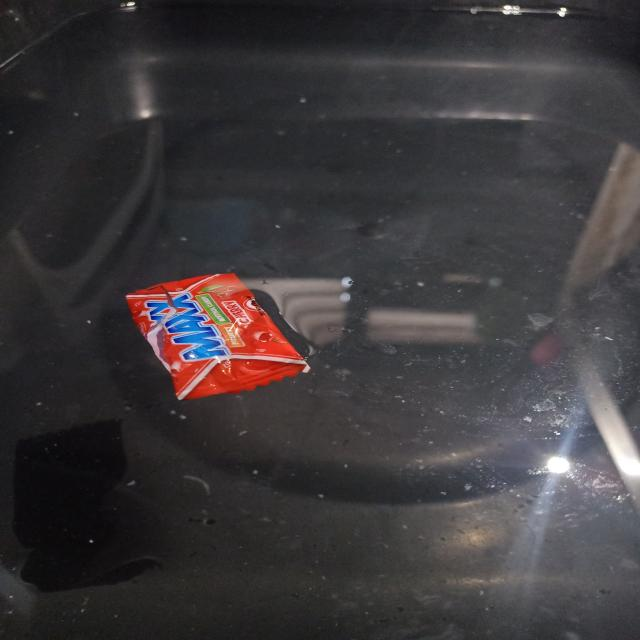Plastic Wrapper: (126, 274, 346, 400)
